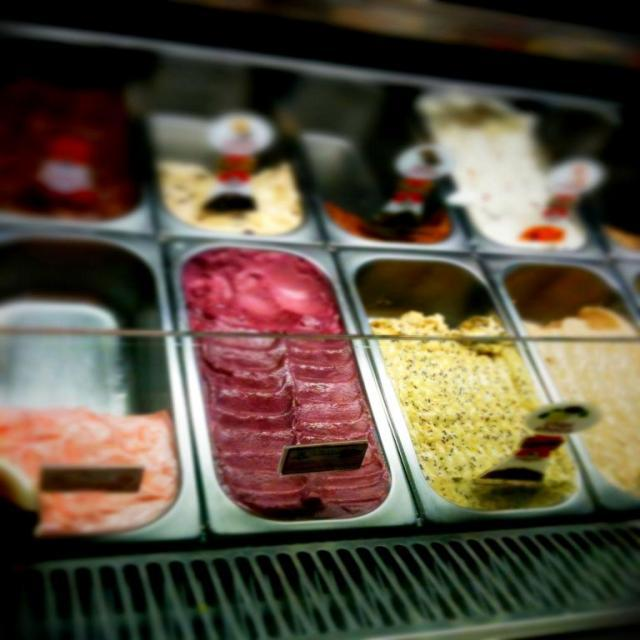Ice cream: (184, 250, 388, 516), (373, 305, 575, 515), (417, 80, 593, 255), (0, 65, 155, 225), (0, 403, 183, 538), (526, 296, 640, 506), (162, 154, 312, 239), (327, 171, 458, 247)
